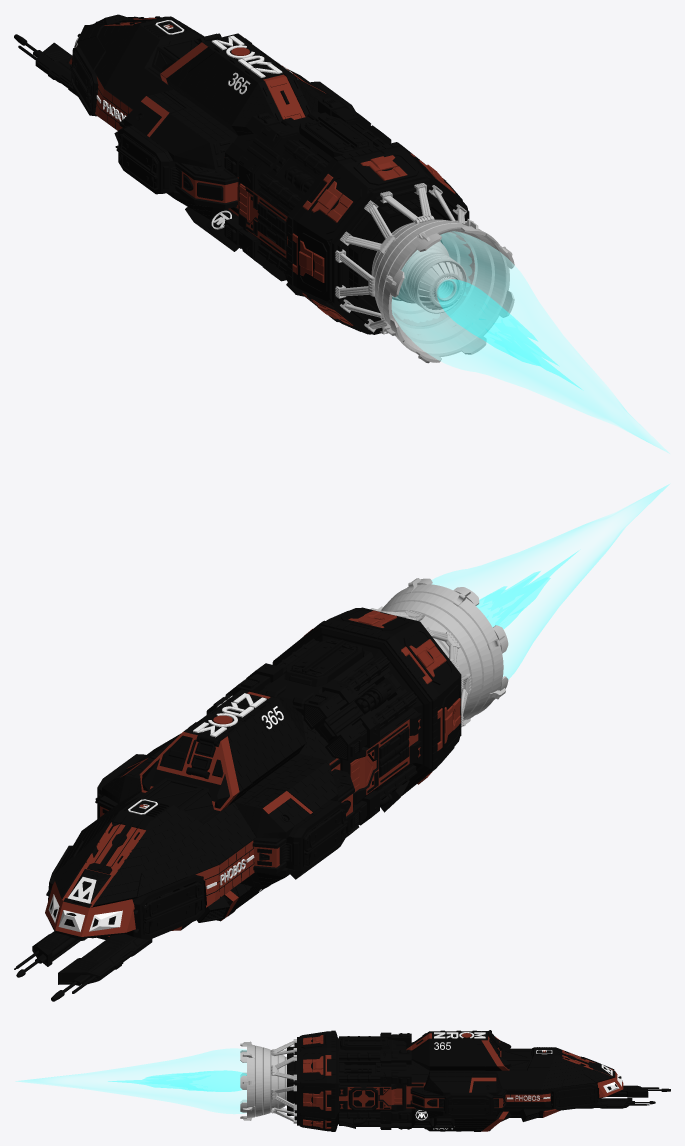
The model's file is ship.glb.
3 views of the same model, one above another, from view 1: azimuth 30°, elevation 25°; view 2: azimuth 150°, elevation 25°; view 3: azimuth 270°, elevation 25° (orthographic). The views are drawn at different scales.
Visible parts, largest first — view 1: hull.003, outer-flame, inner-flame, pdc3-housing, hatch-upper, pdc6-housing, pdc3-door1, pdc6-door1; view 2: hull.003, outer-flame, inner-flame, hatch-upper, pdc3-housing, pdc6-housing, pdc1-door, pdc1-door2, pdc3-door1; view 3: hull.003, outer-flame, inner-flame, airlock-aft, pdc4-housing, hatch-upper, pdc6-housing, pdc4-door1, pdc4-door2, pdc2-door, pdc2-door2, pdc6-door2.
Boxes of the visible parts, box(x1,y1,x2,y2) form: hull.003: box(14, 14, 514, 363); outer-flame: box(392, 231, 669, 453); inner-flame: box(437, 279, 580, 388); pdc3-housing: box(118, 125, 176, 194); hatch-upper: box(151, 36, 199, 72); pdc6-housing: box(299, 116, 373, 157); pdc3-door1: box(115, 134, 158, 175); pdc6-door1: box(305, 118, 355, 151); hull.003: box(14, 578, 508, 1001); outer-flame: box(432, 484, 669, 679); inner-flame: box(476, 551, 577, 628); hatch-upper: box(140, 778, 213, 820); pdc3-housing: box(285, 800, 345, 871); pdc6-housing: box(285, 639, 363, 686); pdc1-door: box(143, 882, 203, 920); pdc1-door2: box(144, 897, 203, 933); pdc3-door1: box(304, 809, 348, 851); hull.003: box(240, 1030, 670, 1131); outer-flame: box(16, 1048, 246, 1113); inner-flame: box(108, 1070, 246, 1091); airlock-aft: box(349, 1086, 378, 1111); pdc4-housing: box(444, 1092, 493, 1117); hatch-upper: box(503, 1048, 532, 1068); pdc6-housing: box(340, 1036, 389, 1050); pdc4-door1: box(448, 1098, 489, 1106); pdc4-door2: box(448, 1106, 489, 1114); pdc2-door: box(555, 1087, 595, 1099); pdc2-door2: box(556, 1095, 594, 1106); pdc6-door2: box(344, 1039, 385, 1045).
Bounding box in the file's own units: 145 × 121 × 768.
